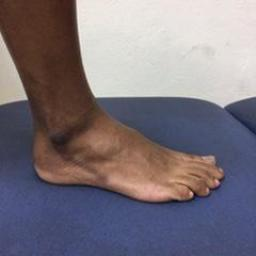Lateral View -Right Foot-: (18, 88, 229, 214)
